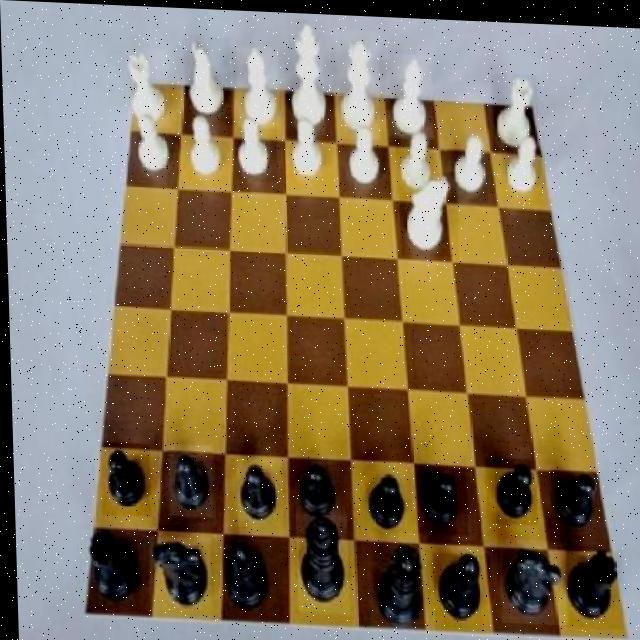bishop: (429, 549, 488, 631), (216, 538, 273, 614)
black-bishop: (291, 510, 346, 612)
black-king: (497, 535, 565, 621), (146, 535, 209, 618)
black-knight: (98, 442, 149, 516), (413, 462, 466, 533), (482, 453, 535, 521), (234, 456, 280, 533), (549, 465, 598, 536), (290, 450, 337, 524), (166, 444, 211, 518), (363, 463, 407, 534)
black-pawn: (366, 529, 426, 628)
black-queen: (77, 522, 138, 611), (559, 544, 620, 625)
black-rook: (384, 50, 433, 135), (236, 45, 280, 127)
white-bishop: (285, 14, 328, 135)
white-king: (397, 166, 457, 254), (184, 34, 230, 123)
white-knight: (128, 106, 176, 184), (447, 126, 494, 202), (284, 111, 330, 185), (341, 120, 390, 189), (184, 106, 227, 184), (503, 127, 544, 201), (234, 116, 278, 180), (395, 124, 434, 193)
white-pawn: (334, 26, 380, 137)
white-queen: (492, 70, 540, 148), (124, 47, 170, 126)
